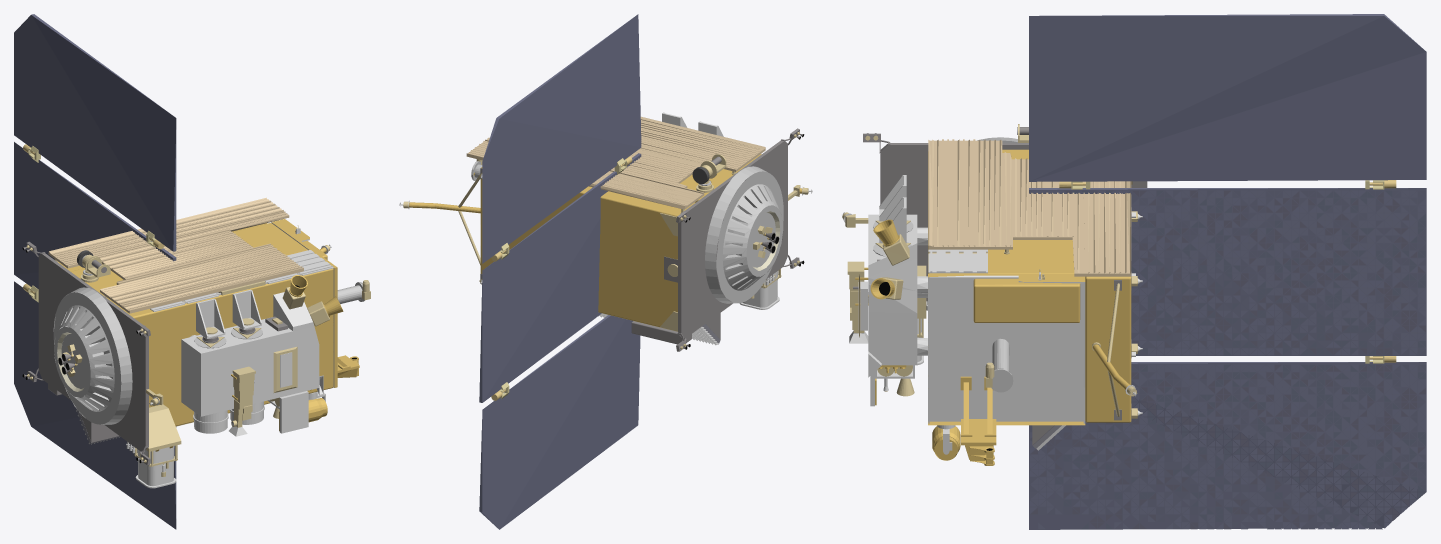
The model's file is lro.glb.
The picture shows the model from 3 angles, left to right: view 1: azimuth 30°, elevation 25°; view 2: azimuth 150°, elevation 25°; view 3: azimuth 270°, elevation 25°; orthographic projection. The views are drawn at different scales.
Visible parts, largest first — view 1: Layer_0, Layer_4, Layer_1; view 2: Layer_4, Layer_0; view 3: Layer_4, Layer_0, Layer_1.
Boxes of the visible parts, x1,y1,x2,y2 form: Layer_0: [22, 197, 359, 488]; Layer_4: [14, 14, 176, 529]; Layer_1: [337, 280, 370, 303]; Layer_4: [479, 14, 641, 529]; Layer_0: [399, 112, 812, 351]; Layer_4: [1029, 14, 1426, 529]; Layer_0: [841, 124, 1147, 465]; Layer_1: [985, 338, 1013, 392].
Size of the model in its own units: 4.35 by 5.33 by 5.5.
